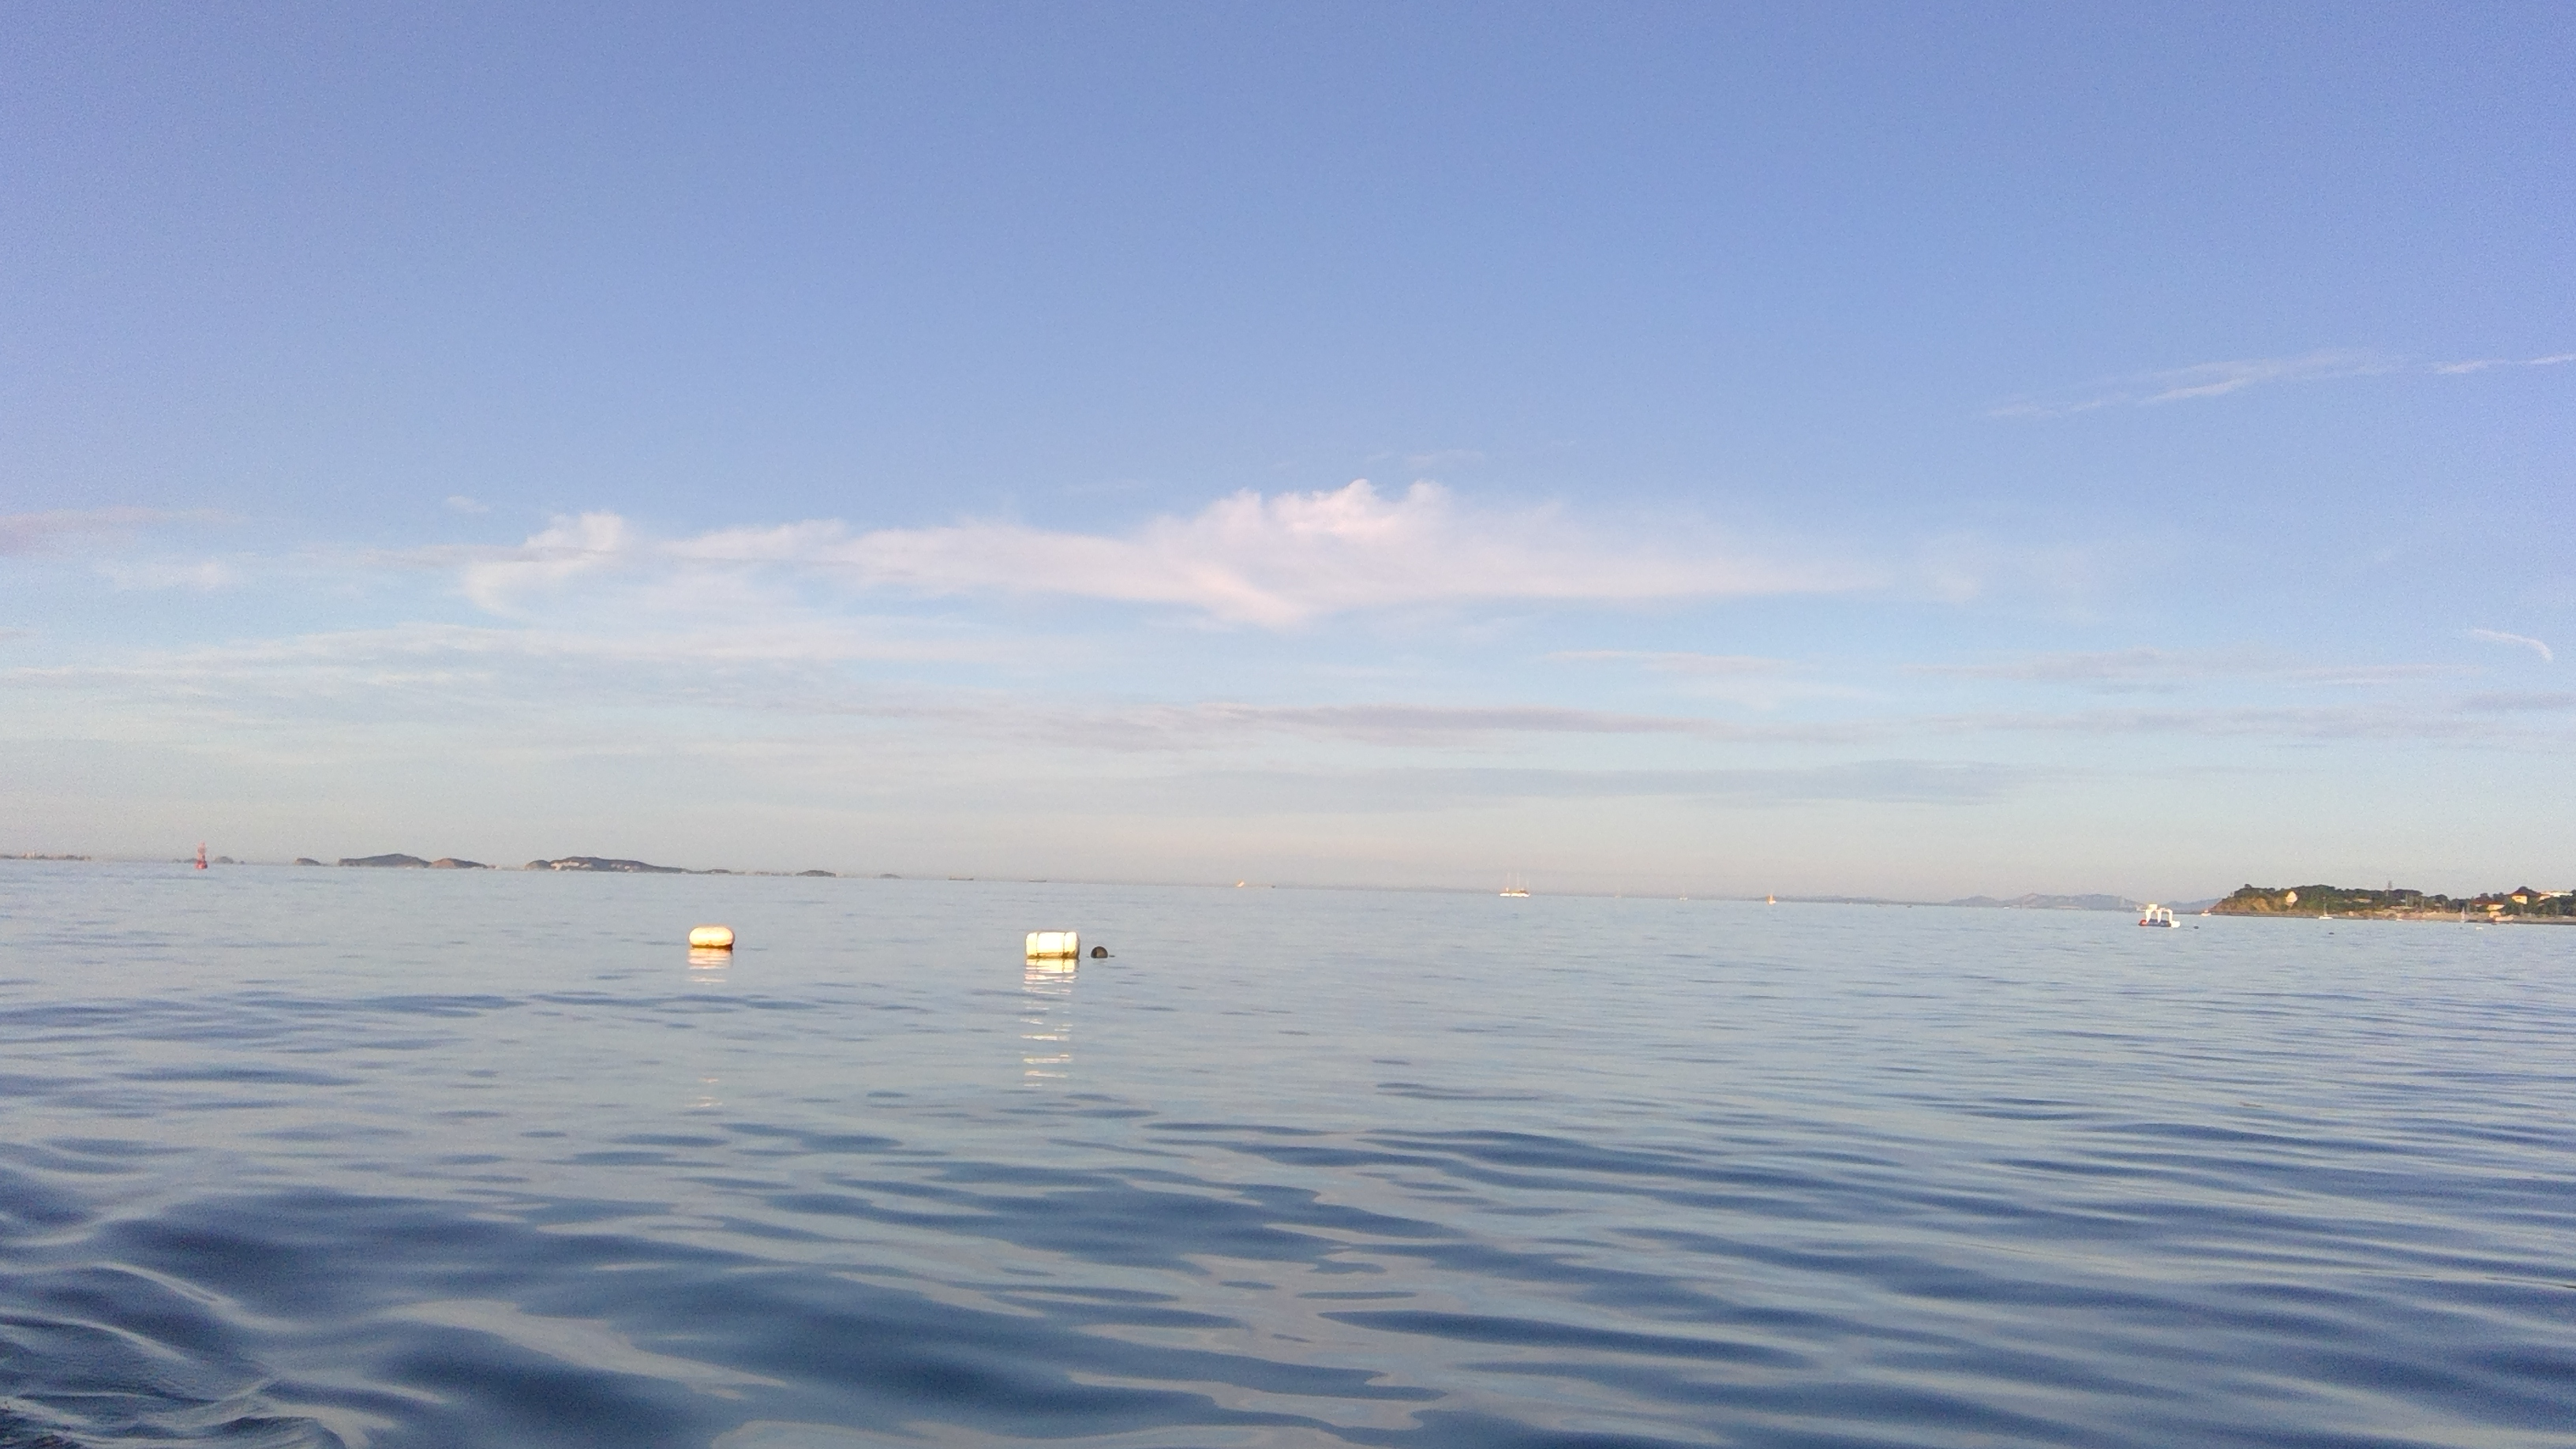ball: (1028, 920, 1086, 962), (688, 922, 741, 962)
ship: (2114, 895, 2189, 934)
